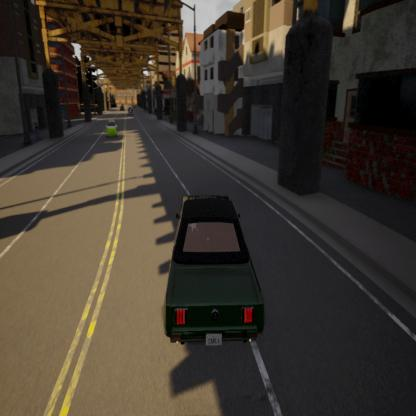Cars: (158, 162, 271, 368), (103, 107, 124, 147)
